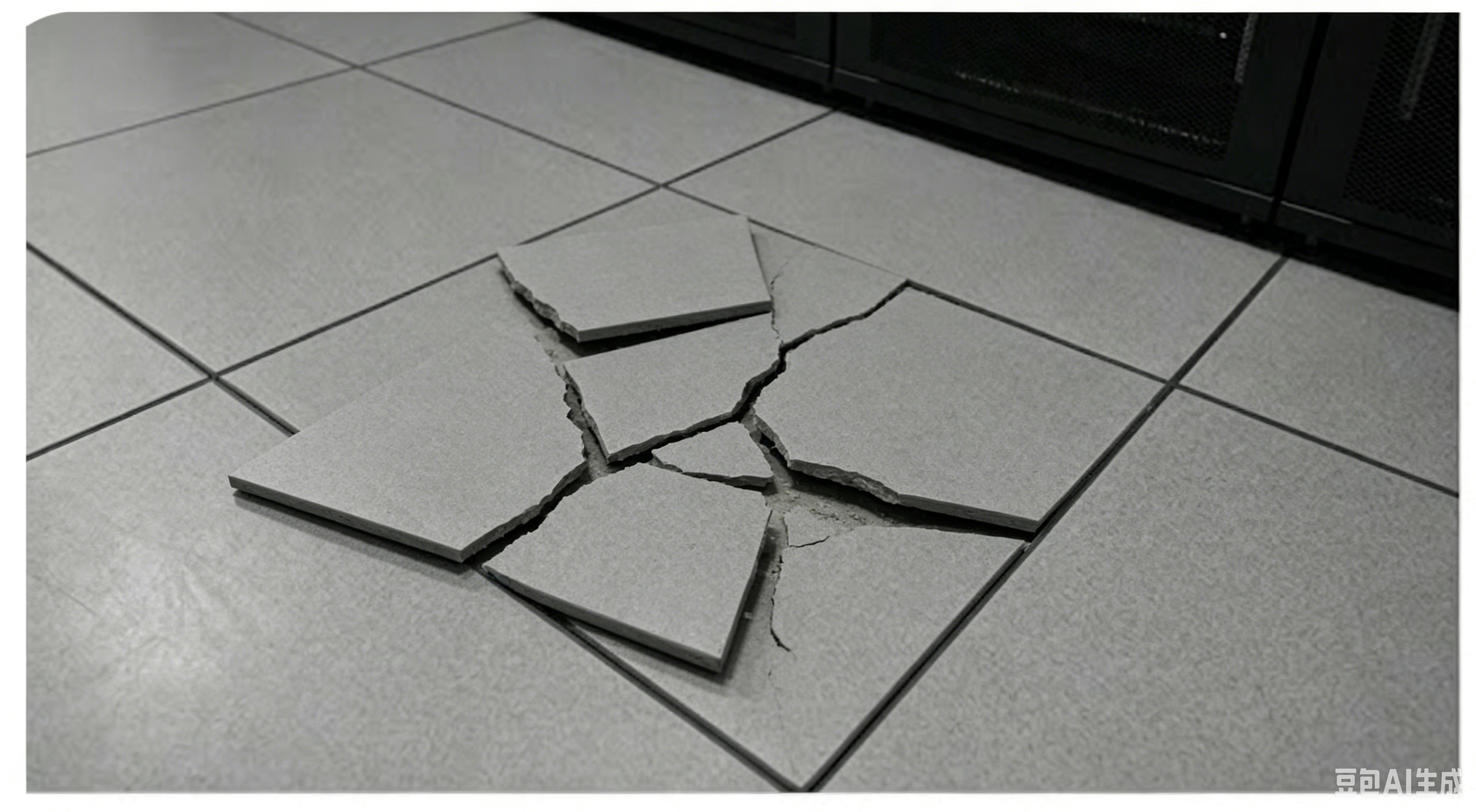floor_defect: (322, 209, 1148, 700)
